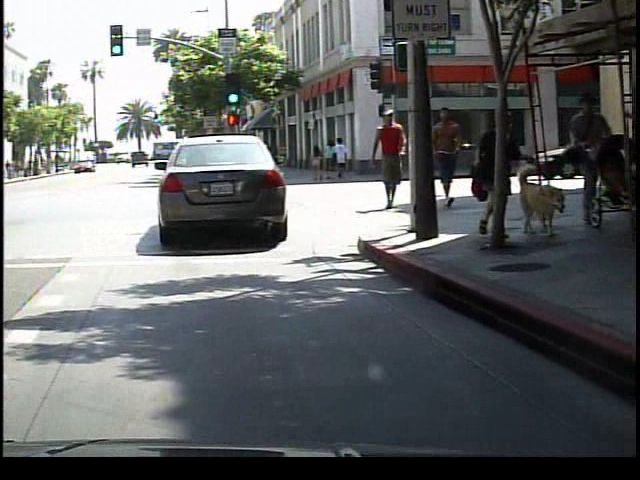person: (368, 104, 411, 218), (427, 102, 468, 216)
